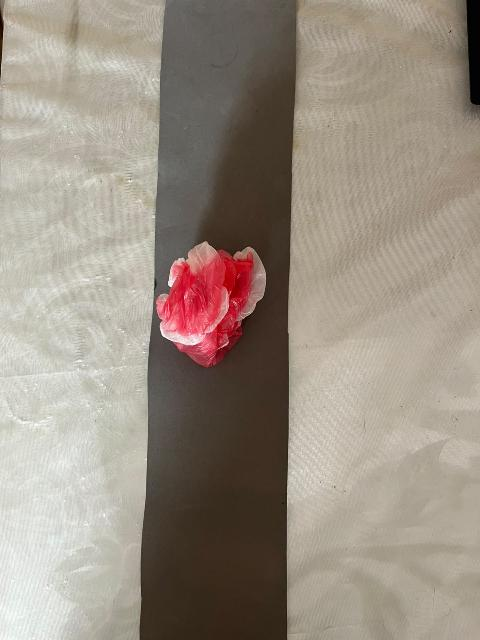LDPE: (140, 219, 288, 384)
